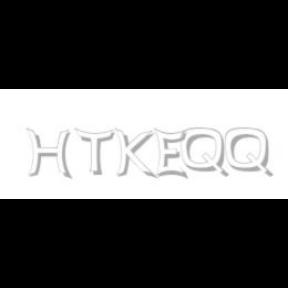E: (154, 128, 188, 180)
H: (26, 128, 72, 180)
K: (114, 128, 154, 180)
Q: (181, 128, 227, 178), (225, 128, 271, 178)
T: (74, 128, 114, 176)
